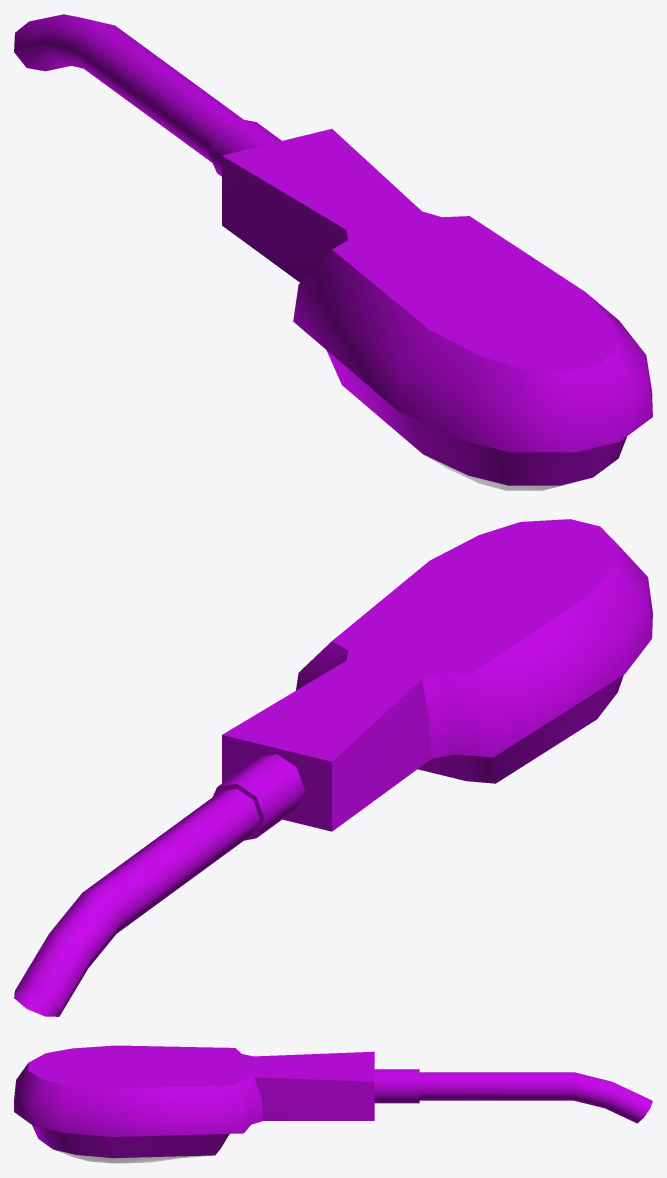
File: lampara edited 2.fbx
3 views of the same model, one above another, from view 1: azimuth 30°, elevation 25°; view 2: azimuth 150°, elevation 25°; view 3: azimuth 270°, elevation 25° (orthographic). The views are drawn at different scales.
Visible parts, largest first — view 1: StreetLamp2_Short; view 2: StreetLamp2_Short; view 3: StreetLamp2_Short.
Part boxes in pixels (x1,y1,x2,y2): StreetLamp2_Short: (14,14,652,490); StreetLamp2_Short: (14,519,652,1016); StreetLamp2_Short: (14,1045,652,1163).
Size of the model in its own units: 19.53 by 12.9 by 85.02.
